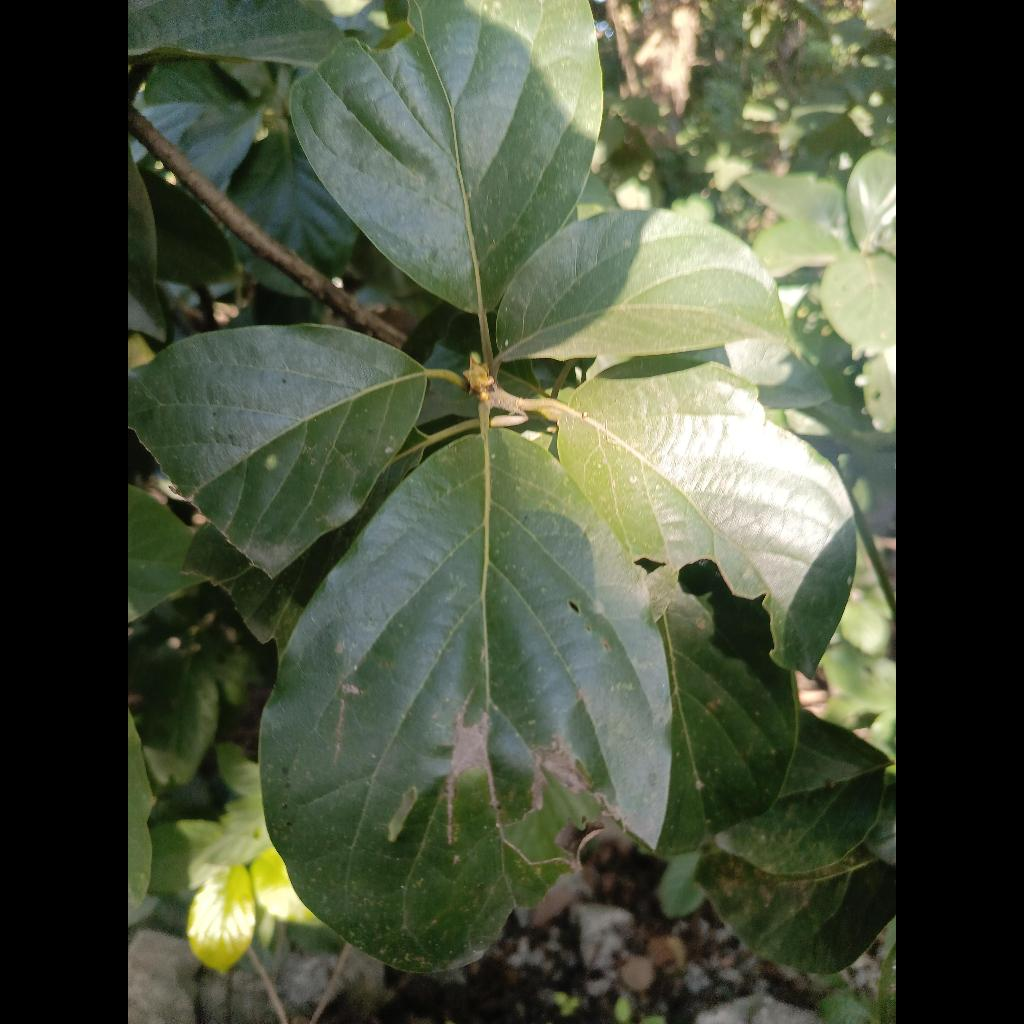plaga: (260, 430, 670, 970), (558, 364, 855, 671), (128, 325, 426, 576)
